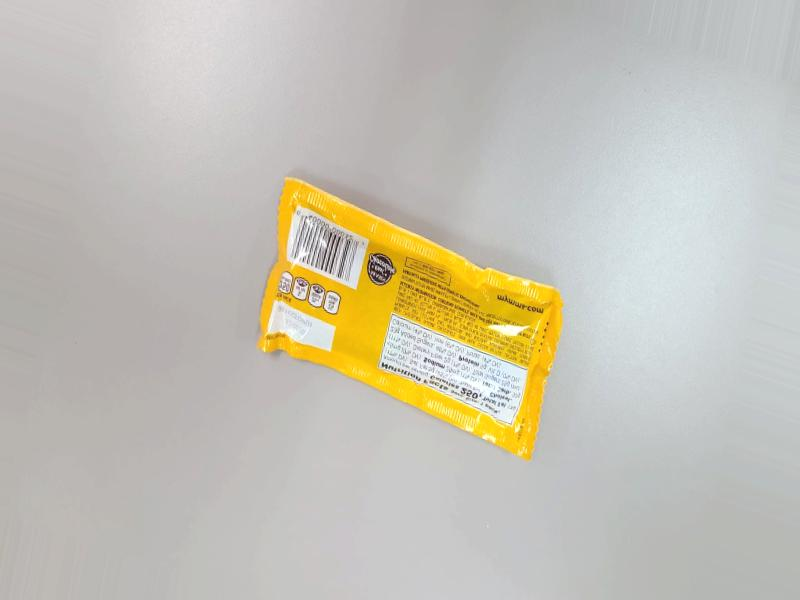m&m: (250, 199, 553, 466)
